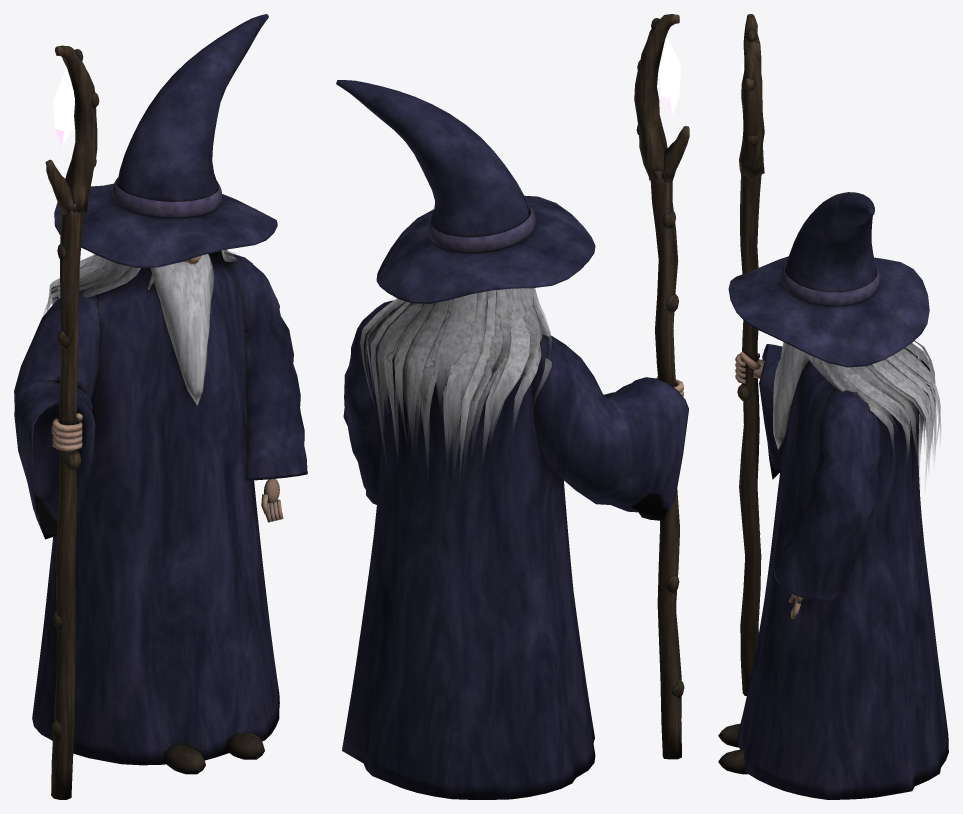
Rendered from orren.glb.
3 renders of one model, left to right at view 1: azimuth 30°, elevation 25°; view 2: azimuth 150°, elevation 25°; view 3: azimuth 270°, elevation 25°, orthographic. The views are drawn at different scales.
Visible parts, largest first — view 1: orren, orren-hair; view 2: orren, orren-hair; view 3: orren, orren-hair.
Boxes of the visible parts, x1,y1,x2,y2 form: orren: [14, 14, 307, 799]; orren-hair: [43, 249, 237, 405]; orren: [336, 14, 689, 799]; orren-hair: [360, 247, 551, 470]; orren: [718, 14, 948, 799]; orren-hair: [772, 340, 941, 488].
Bounding box in the file's own units: 1.08 × 2.56 × 0.7885.
3 materials, 2 textured.
